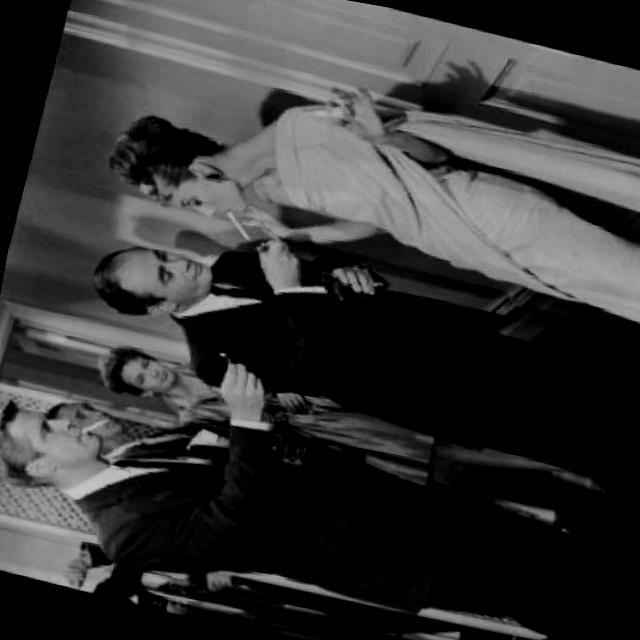smoke: (220, 208, 259, 242), (77, 410, 114, 440)
